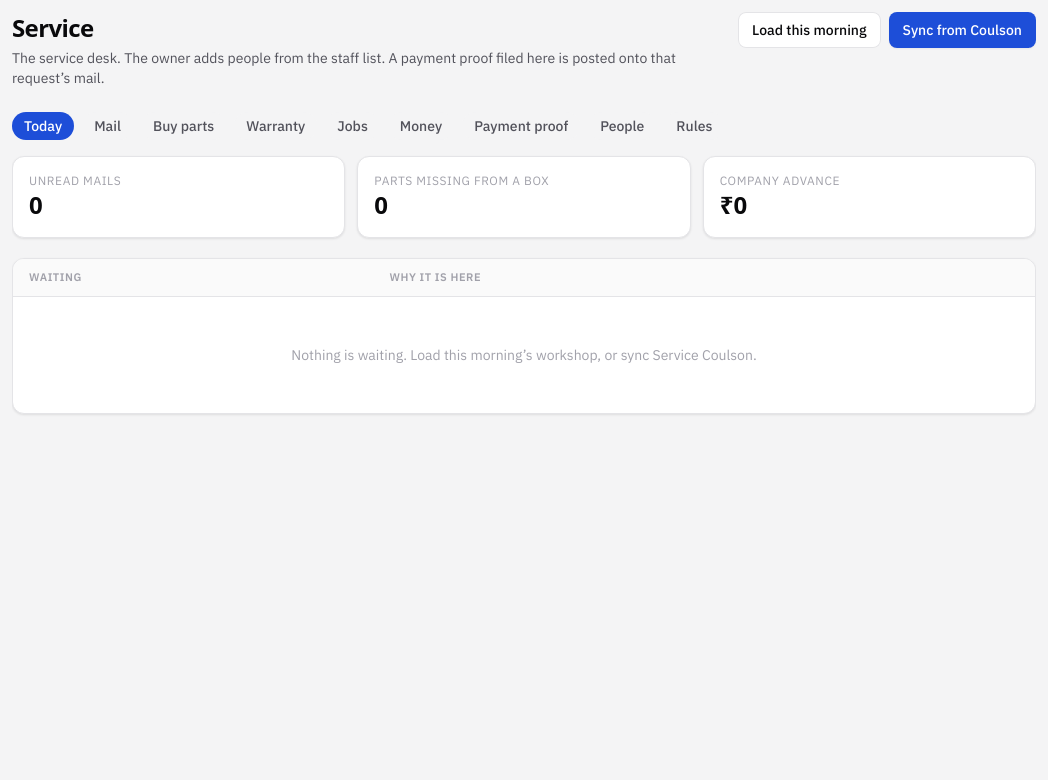
Scenario: workshop desk loads this morning and opens the mail, the part, and the warranty
Later steps or results of the test are not shown.
Expected: the element with test id "workshop-desk" is shown, [12, 12, 1036, 414]
What coordinates should you click on to do the following:
click the button "Load this morning"
I would click on:
 (809, 30)
Its box is [738, 12, 880, 48].
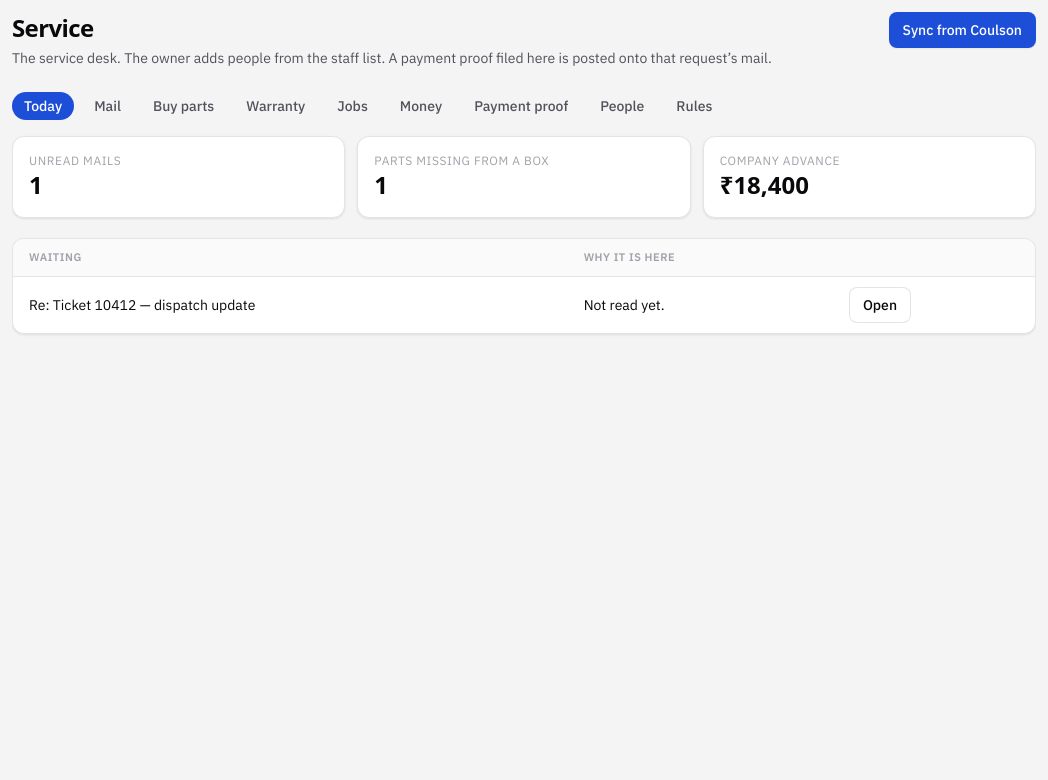
Expected: the text "Re: Ticket 10412" is shown, [29, 296, 255, 314]
Expected: the text "18,400" is shown, [720, 168, 809, 201]
What coordinates should you click on to do the following:
click the button "Mail"
I would click on:
 (108, 106)
Its box is [82, 92, 133, 120].
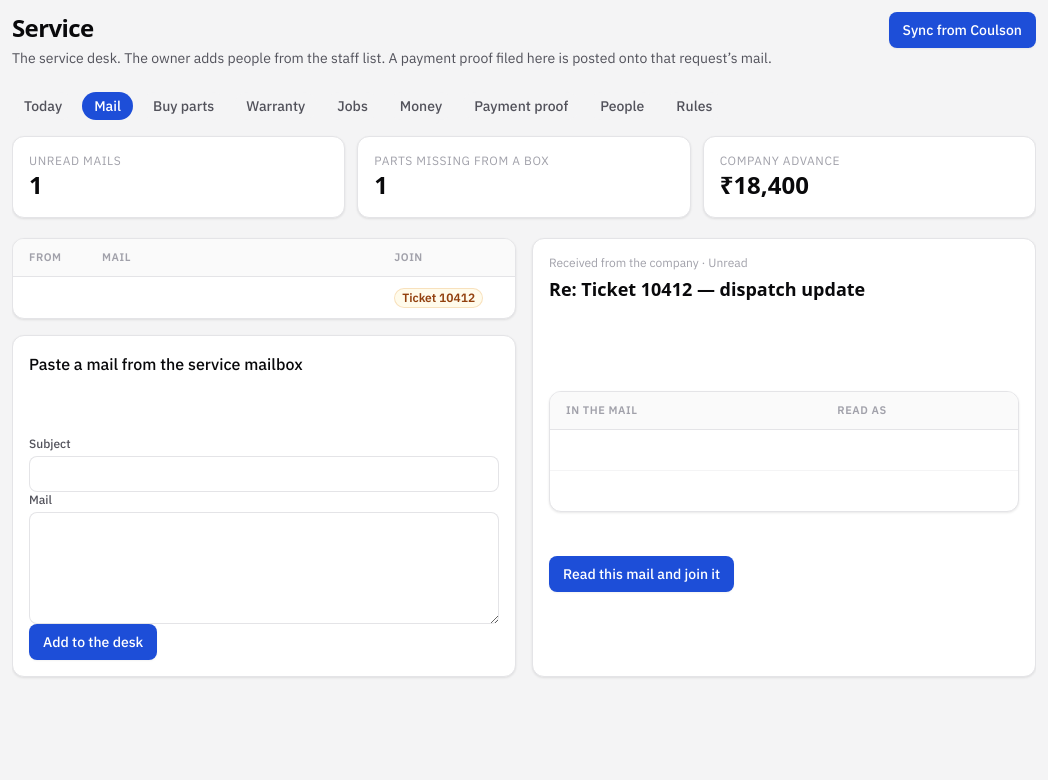
What coordinates should you click on to do the following:
click the button "Read this mail and join it"
I would click on:
 (642, 574)
Its box is [549, 556, 734, 592].
What coordinates should you click on to do the following:
click the button "Buy parts"
I would click on:
 (184, 106)
Its box is [141, 92, 226, 120].
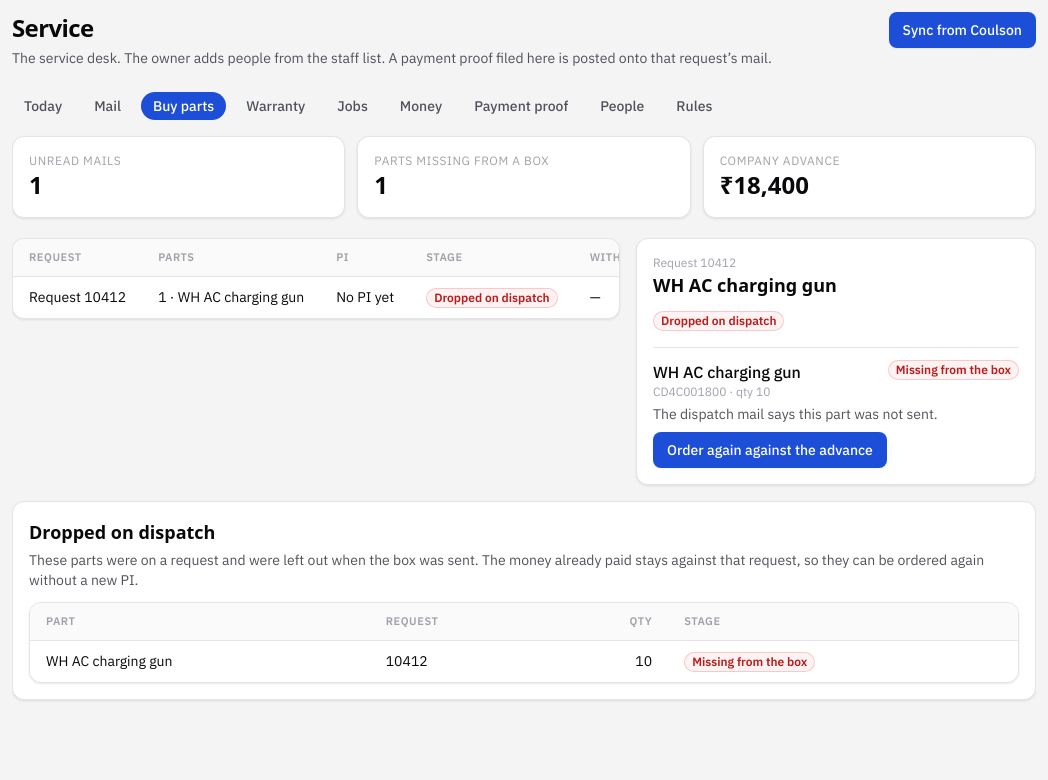
Expected: the text "Missing from the box" is shown, [888, 360, 1019, 380]
Expected: the text "WH AC charging gun" is shown, [158, 288, 304, 306]
What coordinates should you click on to do the following:
click the button "Warranty"
I would click on:
 (276, 106)
Its box is [234, 92, 317, 120].
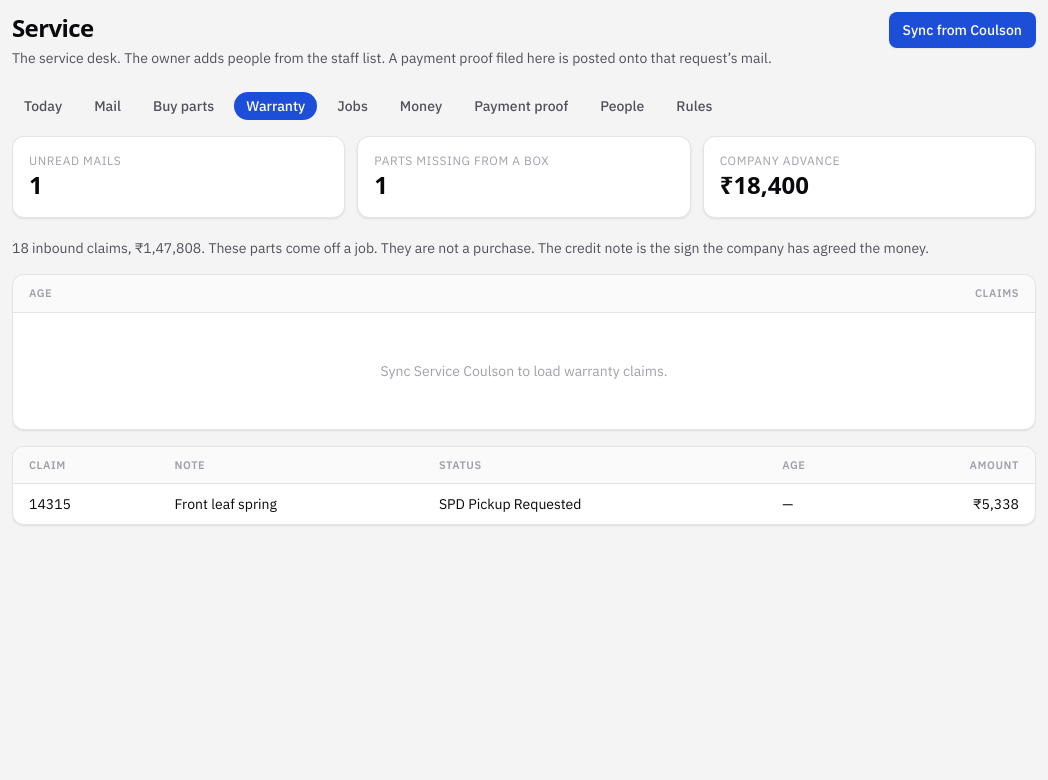
Expected: the text "14315" is shown, [13, 484, 159, 524]
What coordinates should you click on to do the following:
click the button "Jobs"
I would click on:
 (353, 106)
Its box is [325, 92, 380, 120].
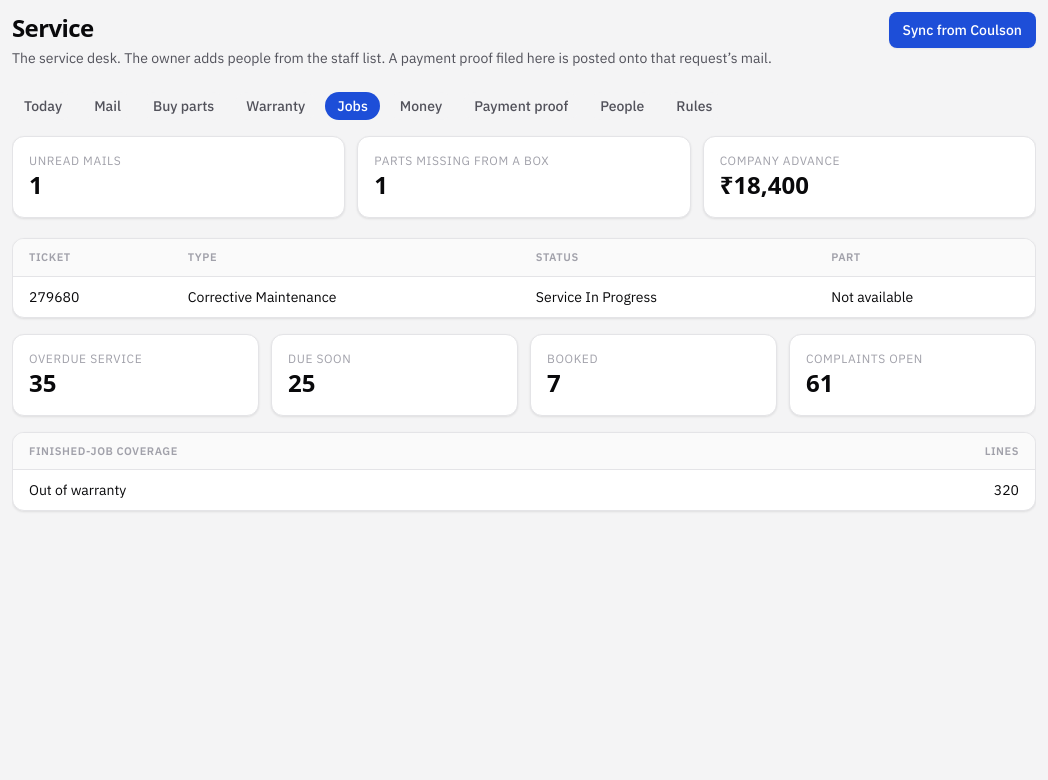
Expected: the text "279680" is shown, [13, 276, 172, 316]
What coordinates should you click on to do the following:
click the button "Money"
I would click on:
 (421, 106)
Its box is [388, 92, 454, 120].
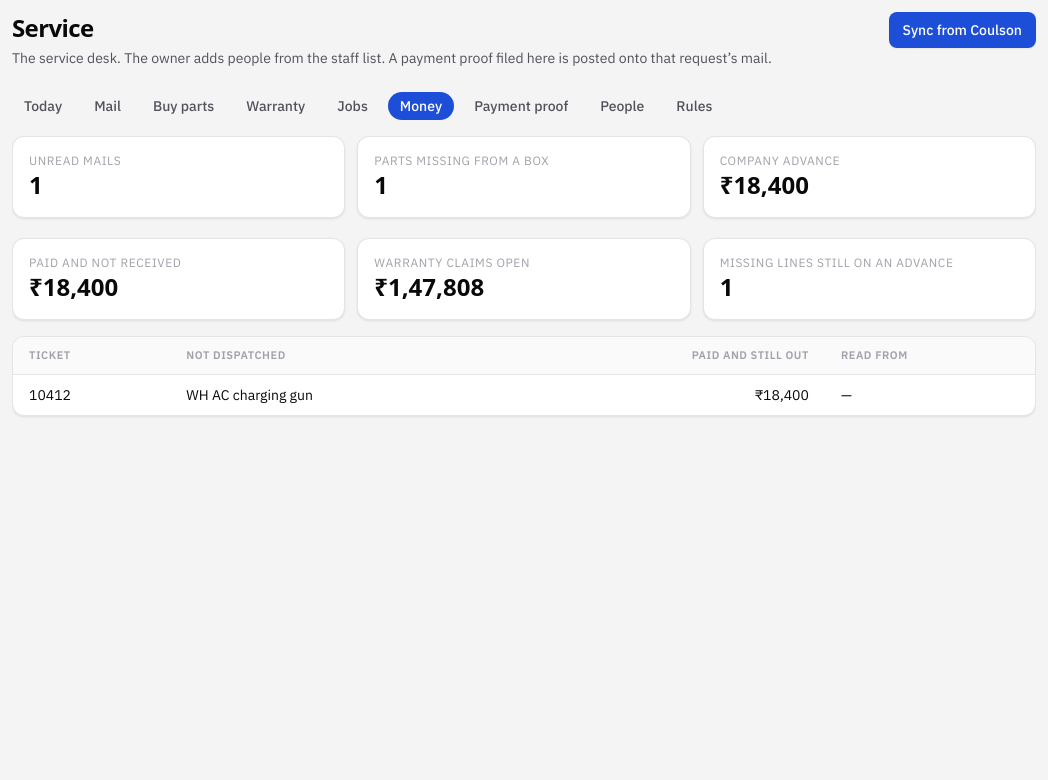
Expected: the text "10412" is shown, [13, 374, 170, 414]
